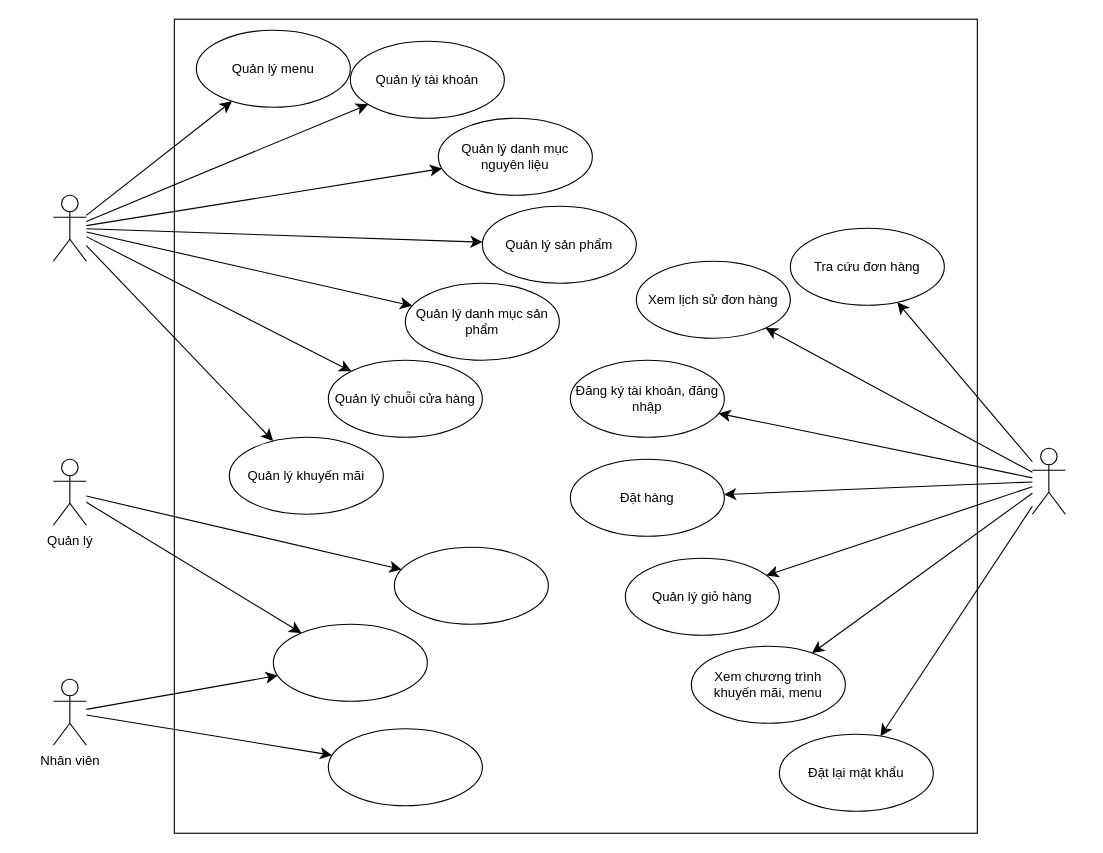
Some shapes in this 1103 by 853 pixel diagram are drawn without their labels. Each missing label, with the box of its shape:
Khách hàng: (1031, 447, 1065, 514)
POS bán hàng: (327, 728, 482, 806)
Quản lý nhân viên: (393, 546, 548, 624)
Quản lý đơn hàng: (272, 623, 427, 701)
Quản trị hệ thống: (52, 194, 86, 261)
